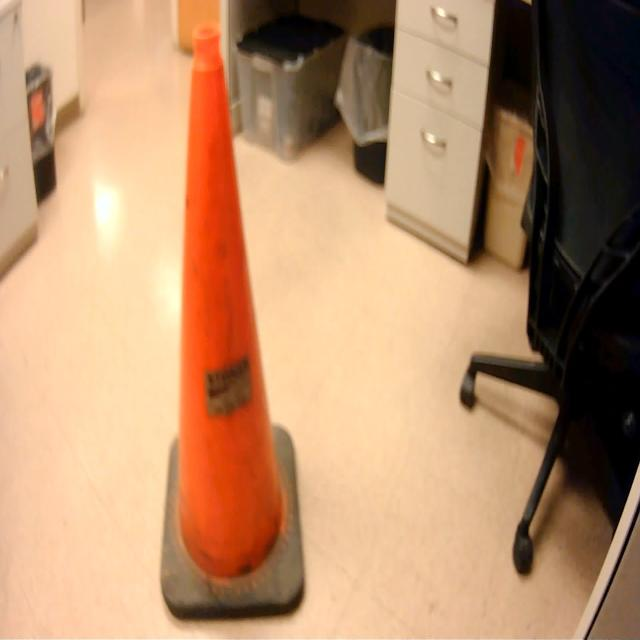traffic cone: (155, 13, 313, 621)
